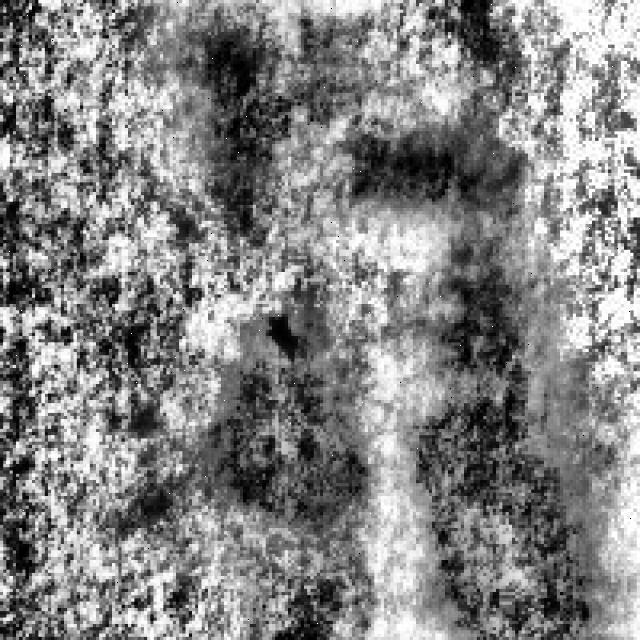Scratches: (388, 237, 614, 637), (173, 0, 339, 237), (202, 310, 364, 528), (342, 125, 512, 224)
